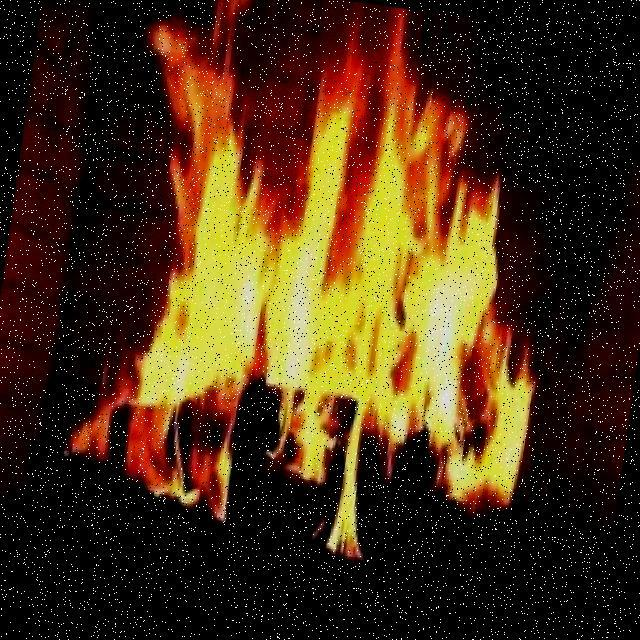Fire: (121, 66, 537, 511)
